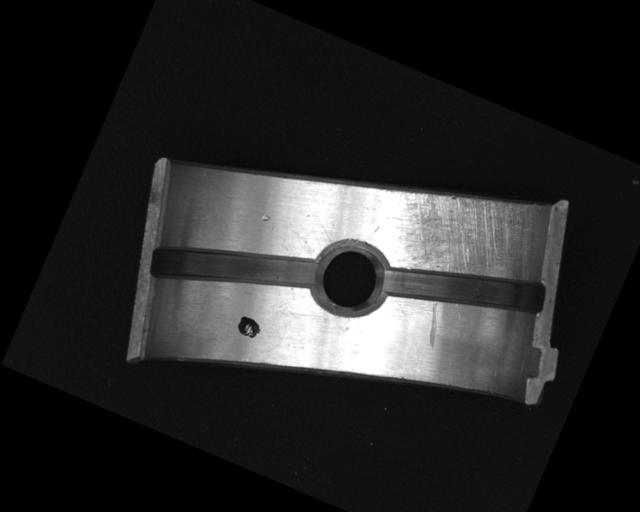blot: (233, 312, 264, 342)
bruise: (259, 211, 272, 225)
gap: (144, 199, 324, 336), (376, 225, 550, 351)
hole: (301, 229, 399, 328)
nick: (416, 298, 451, 349), (308, 213, 341, 245)
scratch: (369, 148, 556, 312)
